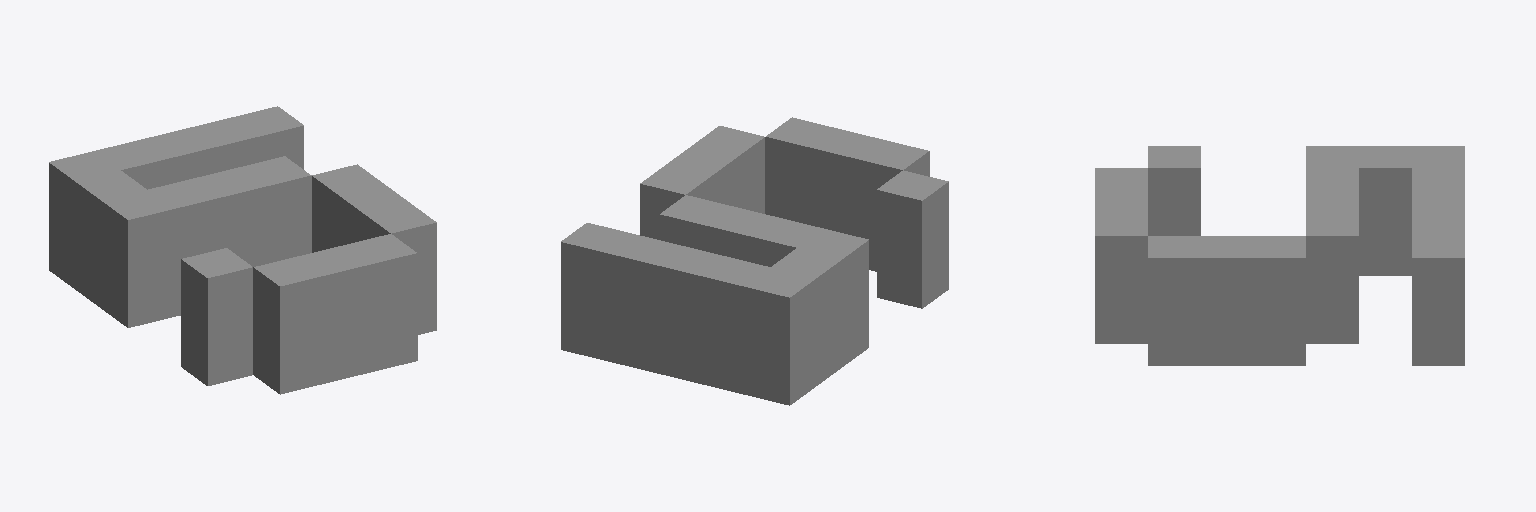
The picture shows the model from 3 angles: view 1: azimuth 30°, elevation 25°; view 2: azimuth 150°, elevation 25°; view 3: azimuth 270°, elevation 25°; orthographic projection.
Visible parts, largest first — view 1: 5_CUABC.032; view 2: 5_CUABC.032; view 3: 5_CUABC.032.
Part boxes in pixels (left/top/right/bottom): 5_CUABC.032: left=49, top=106, right=436, bottom=394; 5_CUABC.032: left=561, top=117, right=948, bottom=405; 5_CUABC.032: left=1095, top=146, right=1464, bottom=365.
Size of the model in its own units: 0.5556 by 0.25 by 0.7778.